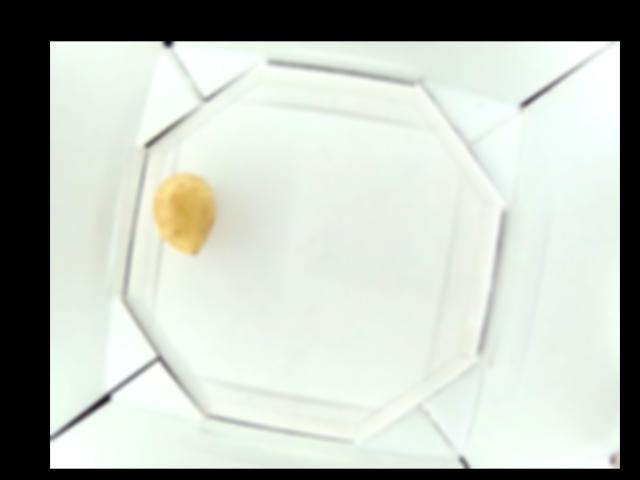Potato: (149, 173, 217, 255)
